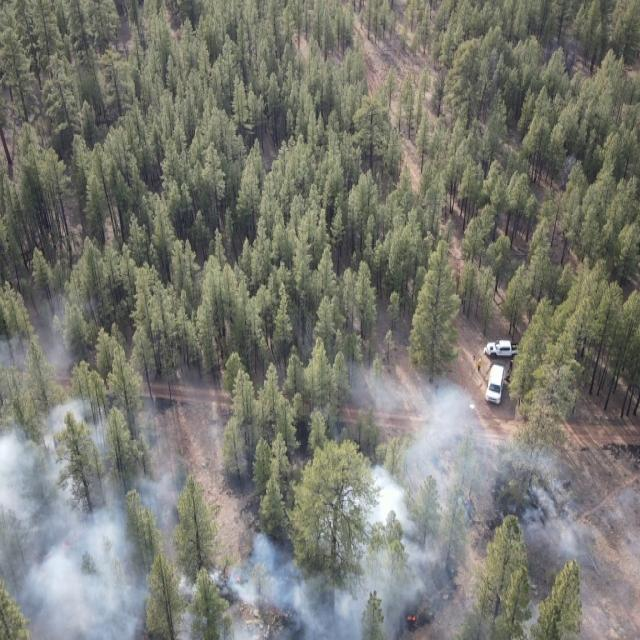fire: (40, 528, 80, 568), (212, 558, 255, 592), (399, 606, 424, 632)
smoke: (0, 390, 202, 640), (201, 461, 478, 640), (478, 421, 640, 568), (323, 347, 478, 461), (0, 290, 96, 378), (518, 586, 548, 640)
